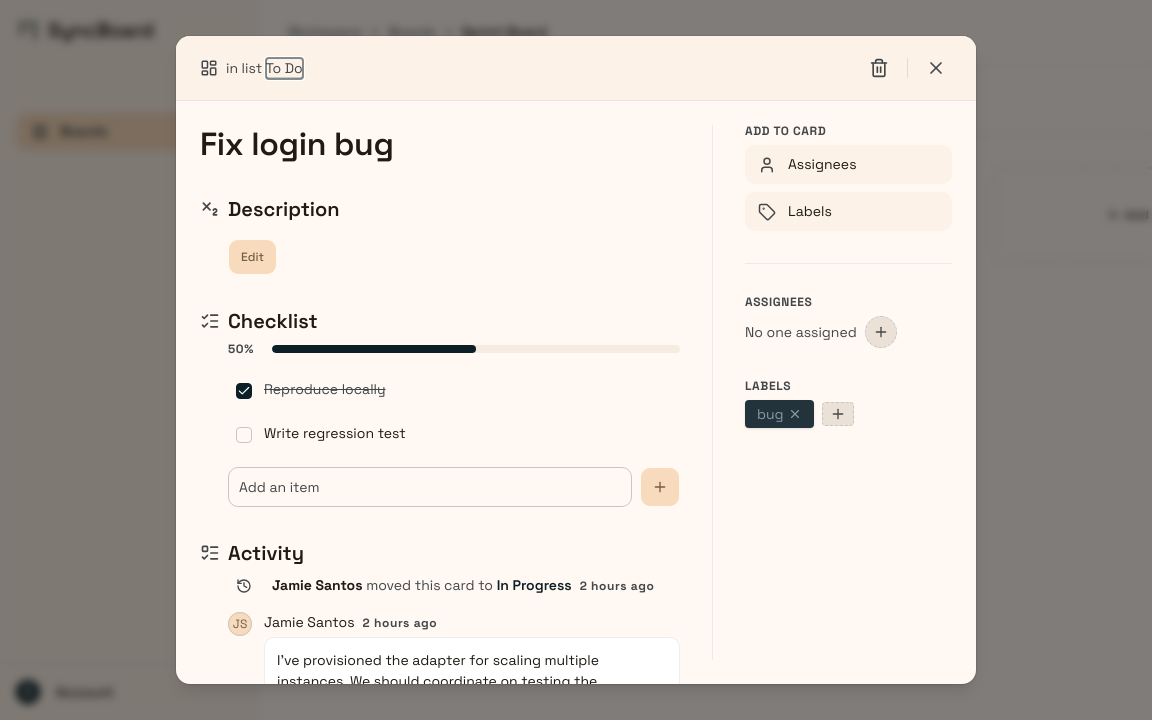
it: ActiveBoardPage › threads the board's lists and workspace members into the card detail modal
The image size is (1152, 720).
Check: the field showing "Fix login bug" is shown, box [192,125,672,163]
Click the button "To Do": x=284, y=68 [266,58,303,78]
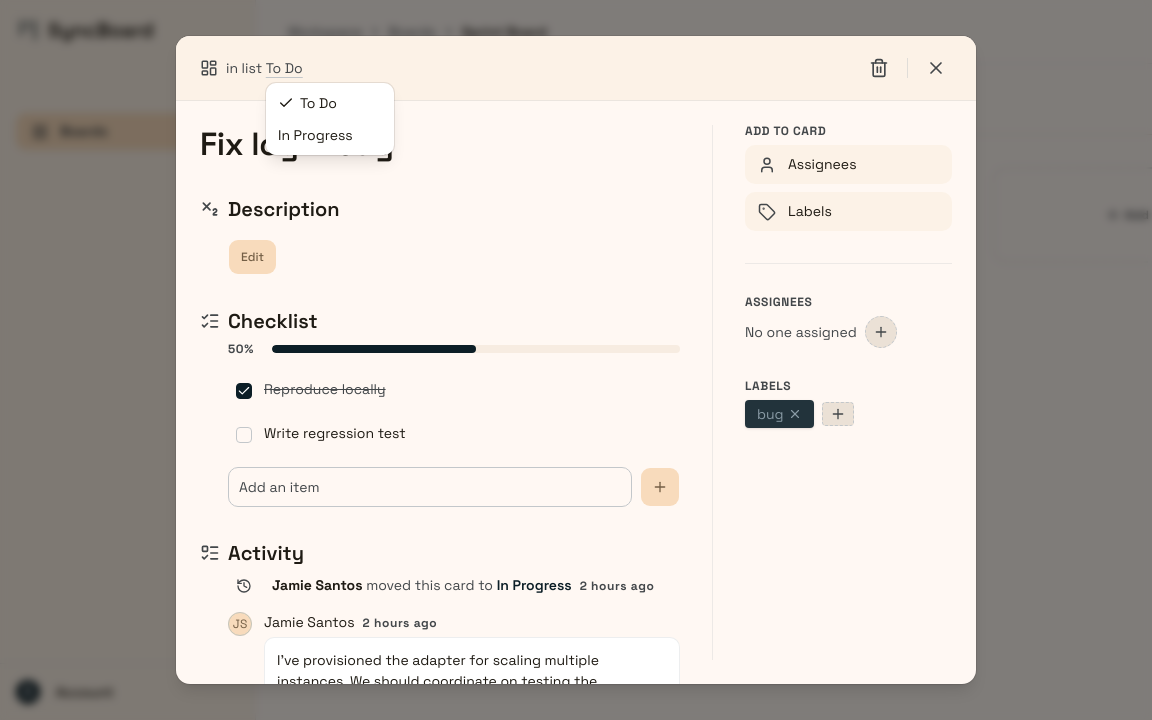
Check: the menu item "In Progress" is shown, box [278,126,353,144]
Click the button "Assignees": x=848, y=164 [745,145,952,184]
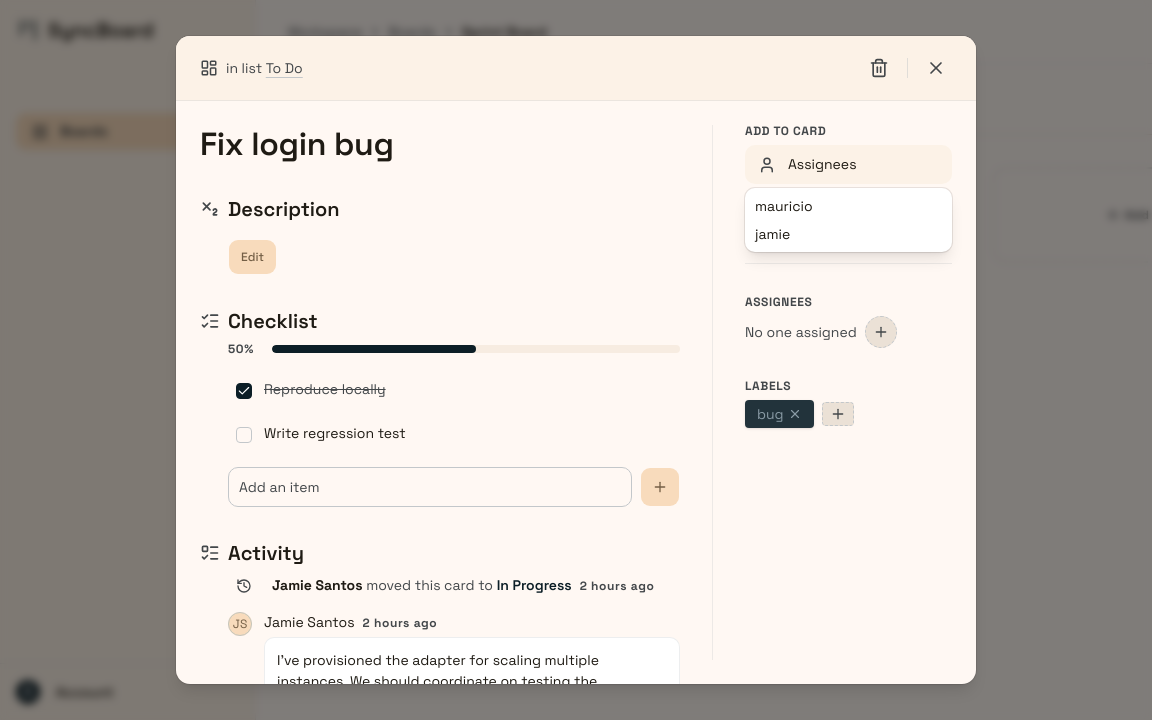
Check: the menu item "mauricio" is shown, box [755,197,813,215]
Check: the menu item "jamie" is shown, box [755,225,790,243]
